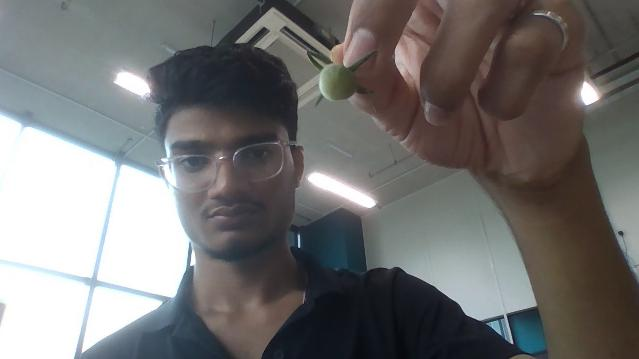Fruit Maturation: (318, 62, 358, 102)
